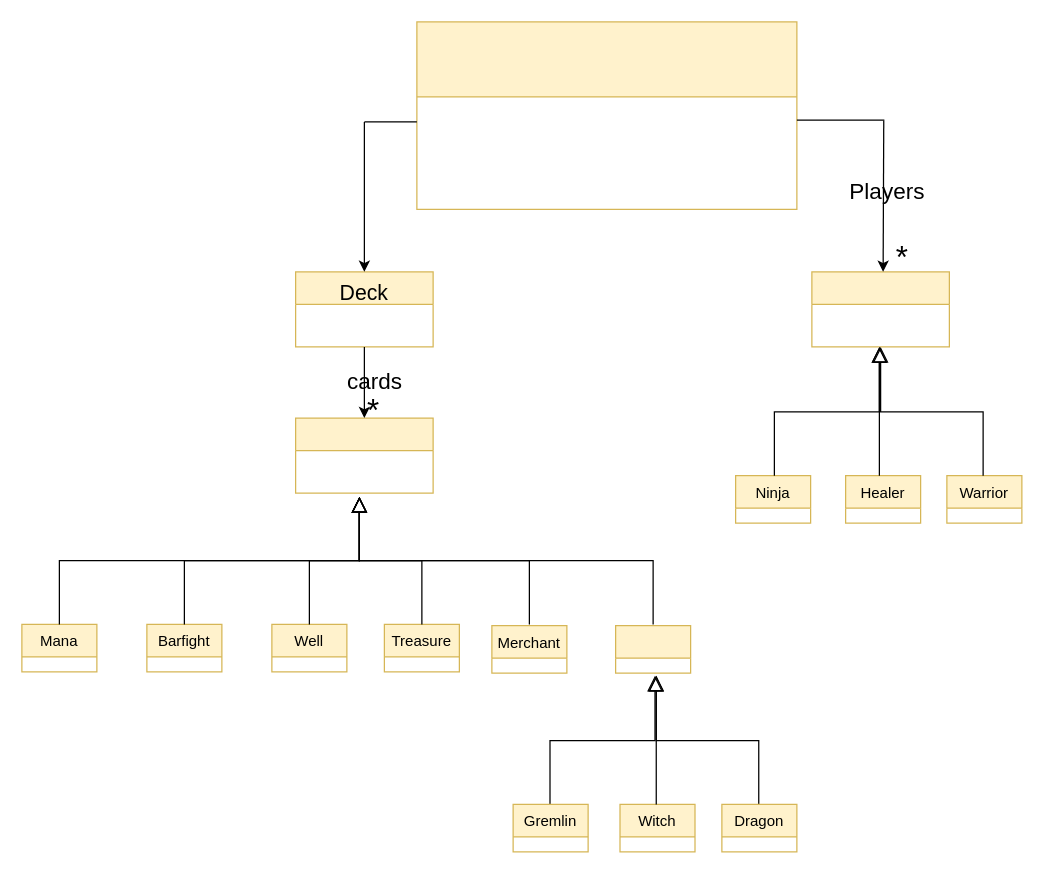
Some shapes in this 1044 by 874 pixel diagram are drawn without their labels. The shapes that lost their labels are listed below. From the top down, each one's centre as x and y in pixels, then its label:
At point (606, 115): "MtmChkin".
At point (880, 309): "Player".
At point (363, 455): "Card".
At point (652, 648): "Battle".
